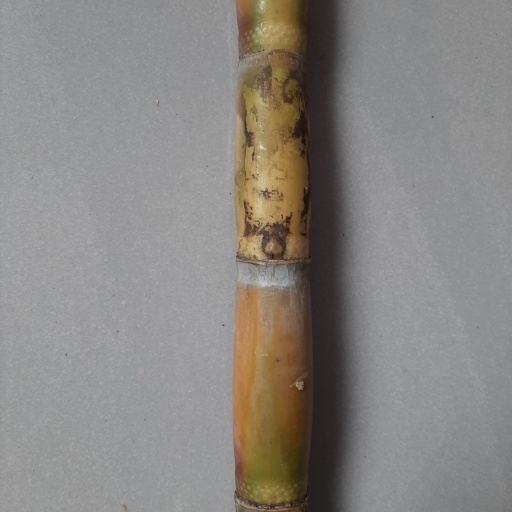Bud: (261, 235, 287, 259)
